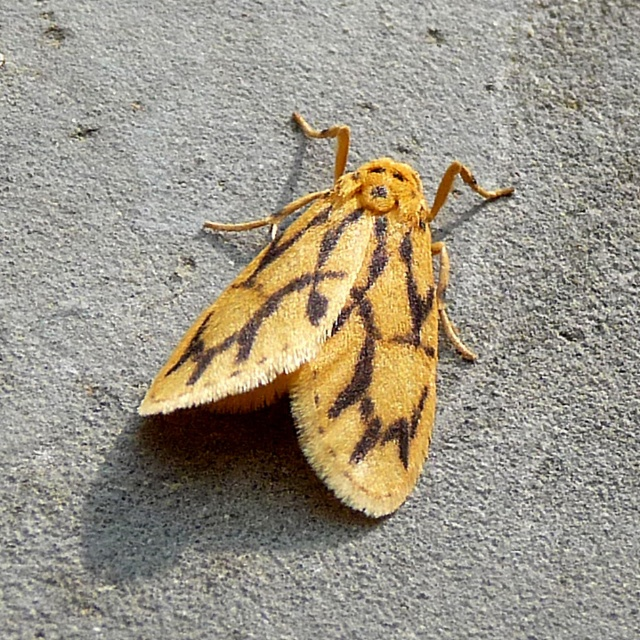Moths and butterflies: (132, 112, 517, 520)
